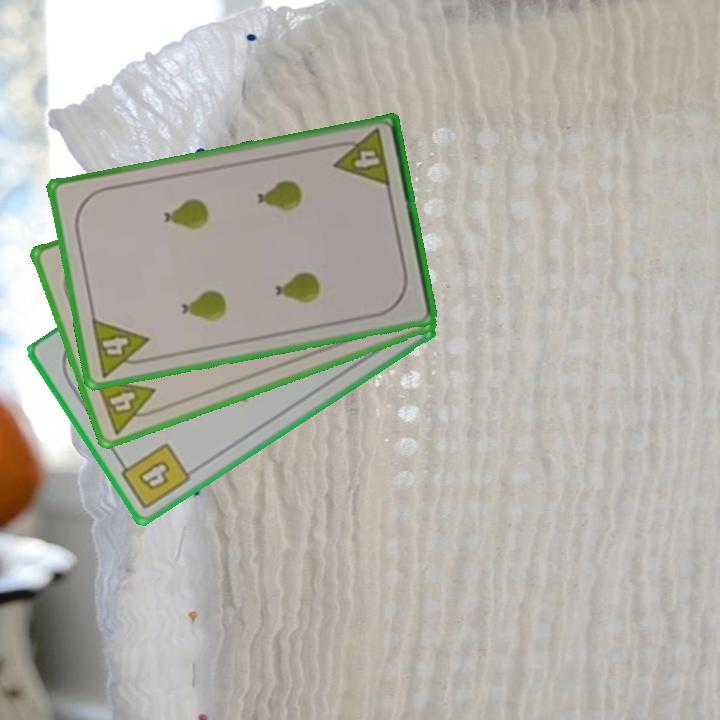4b: (114, 439, 194, 513)
4p: (92, 374, 165, 437), (88, 315, 155, 380), (328, 126, 393, 190)
